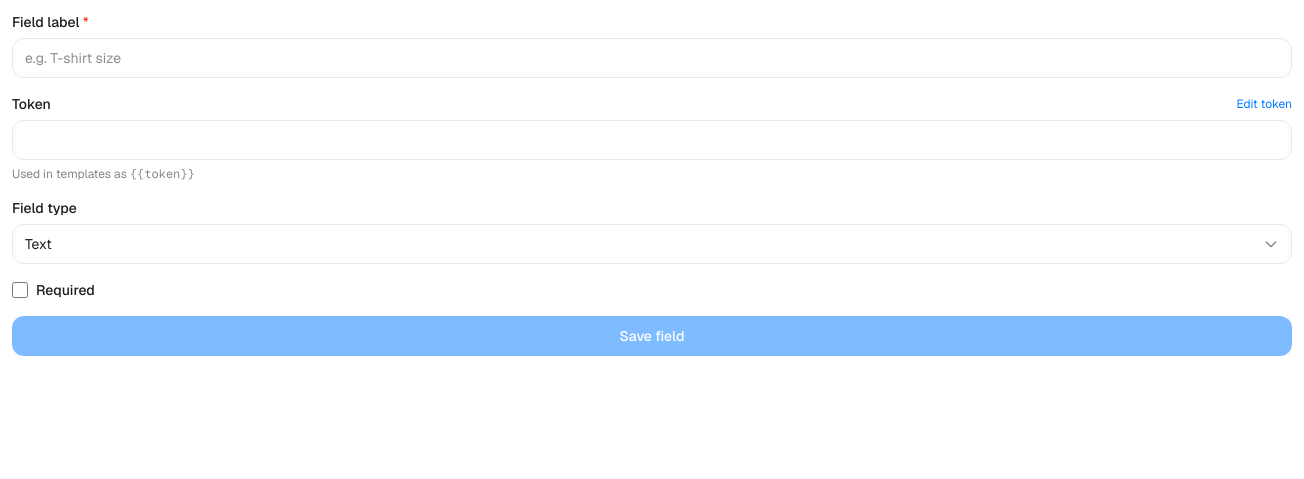
it: FieldForm › renders all five field type options
Click the dropdown named "Field type": (38, 244) [12, 224, 1292, 264]
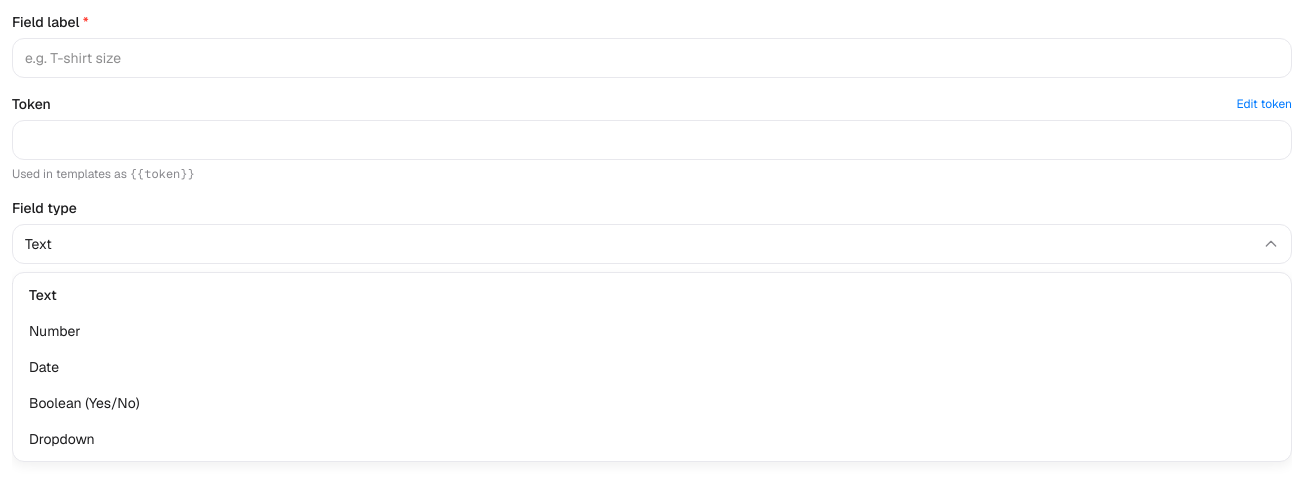
Check: the option "Text" is shown, box [13, 277, 1291, 313]
Check: the option "Number" is shown, box [13, 313, 1291, 349]
Check: the option "Date" is shown, box [13, 349, 1291, 385]
